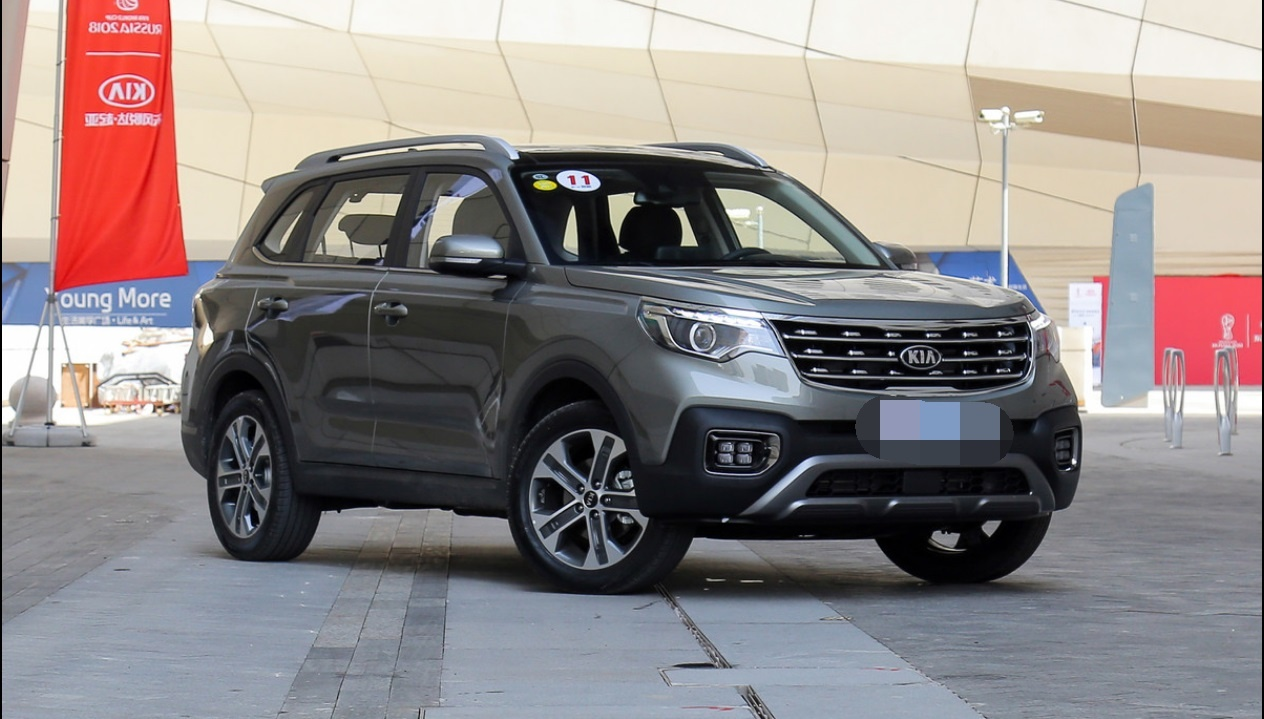SUV: (186, 131, 1094, 581)
